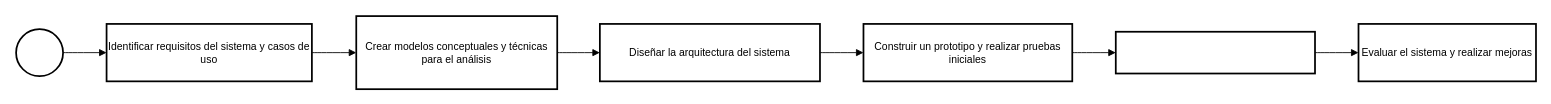
Image size: 1551x104. Some labels were removed from this diagram. The shapes that lost their labels are listed below. From the top down, each one's box as (x1, y1, x2, y2) in pixels, then its label:
(15, 28, 64, 77): Inicio
(1114, 30, 1315, 74): Implementar el sistema
